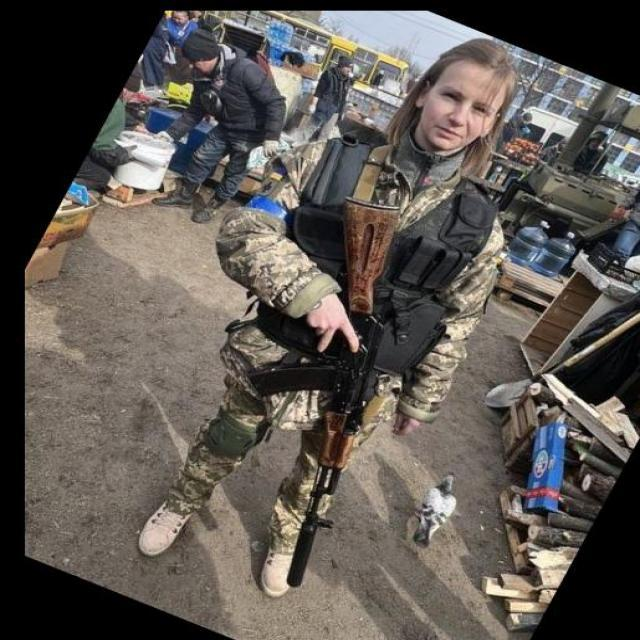weapon: (252, 198, 404, 590)
